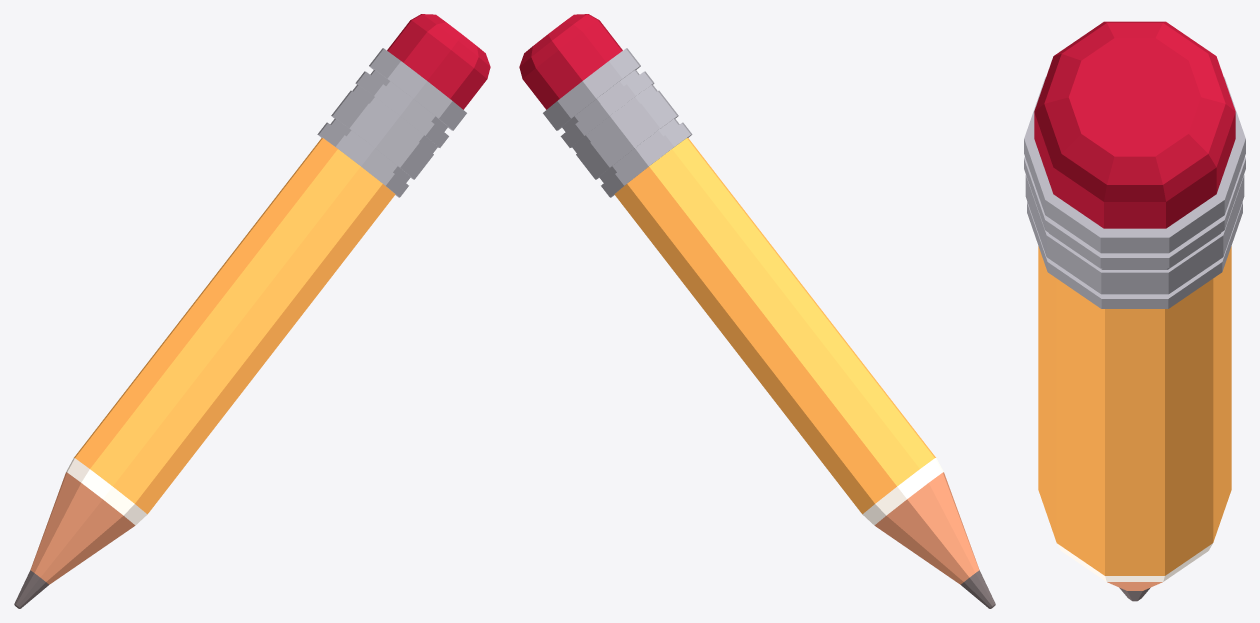
Rendered from pencil.glb.
3 views of the same model, side by side, from view 1: azimuth 30°, elevation 25°; view 2: azimuth 150°, elevation 25°; view 3: azimuth 270°, elevation 25° (orthographic). The views are drawn at different scales.
Parts seen in each view (by area): view 1: Cylinder; view 2: Cylinder; view 3: Cylinder.
Boxes of the visible parts, x1,y1,x2,y2 form: Cylinder: (14, 14, 490, 608); Cylinder: (519, 14, 995, 608); Cylinder: (1024, 21, 1245, 601).
Size of the model in its own units: 3.2 by 3.2 by 0.6586.
Materials: 1 (1 with a texture image).
